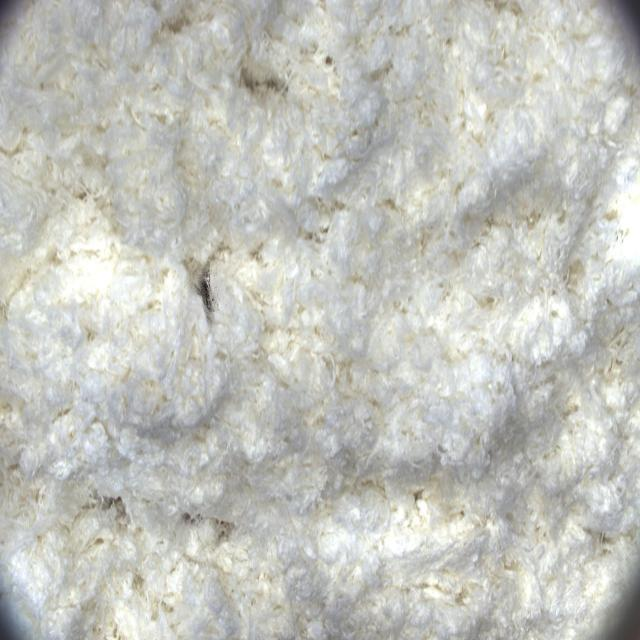dust: (171, 249, 239, 339)
